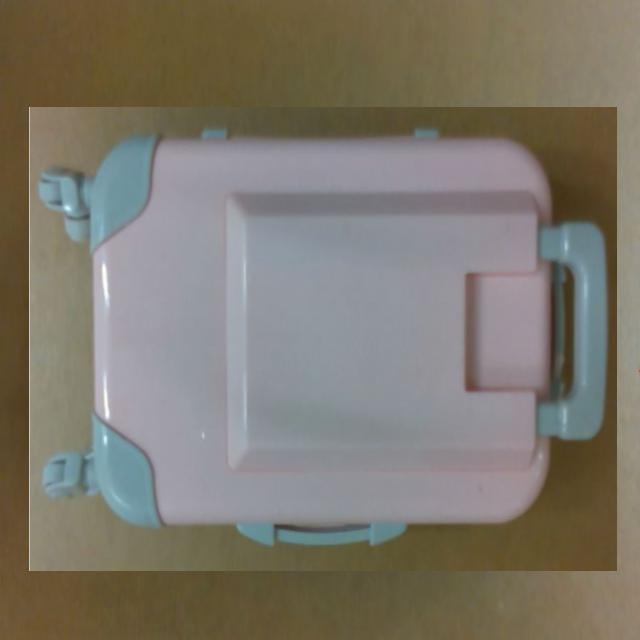luggage: (29, 107, 618, 573)
